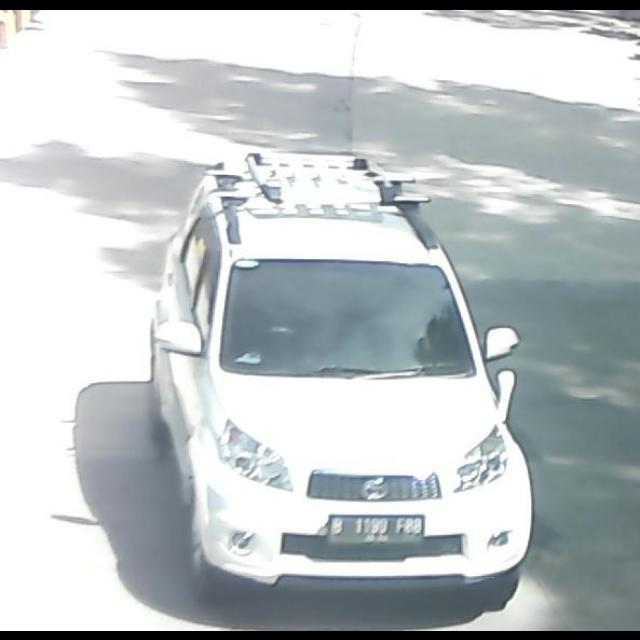plate: (328, 509, 430, 548)
